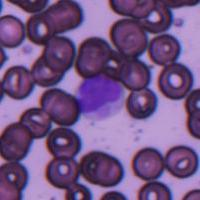M: (76, 73, 123, 121)
